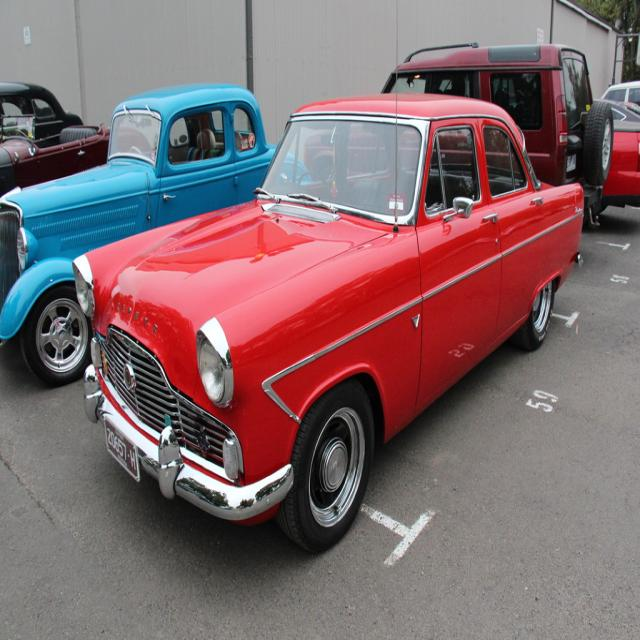car: (72, 0, 583, 555)
